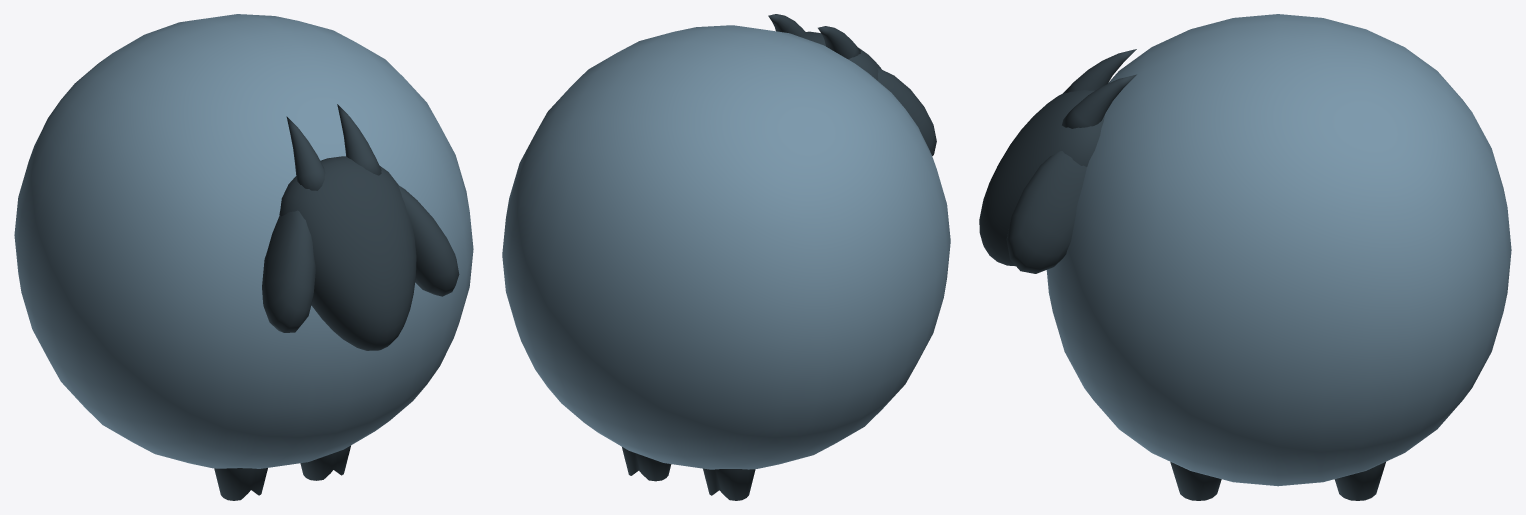
File: MOD_Sheepboi.fbx
The picture shows the model from 3 angles, left to right: view 1: azimuth 30°, elevation 25°; view 2: azimuth 150°, elevation 25°; view 3: azimuth 270°, elevation 25°; orthographic projection. The views are drawn at different scales.
Visible parts, largest first — view 1: sheep lilac; view 2: sheep lilac; view 3: sheep lilac.
Part boxes in pixels (<box>): sheep lilac: <box>14,14,473,500</box>; sheep lilac: <box>502,14,950,500</box>; sheep lilac: <box>979,14,1511,500</box>.
Size of the model in its own units: 127 by 129 by 144.
